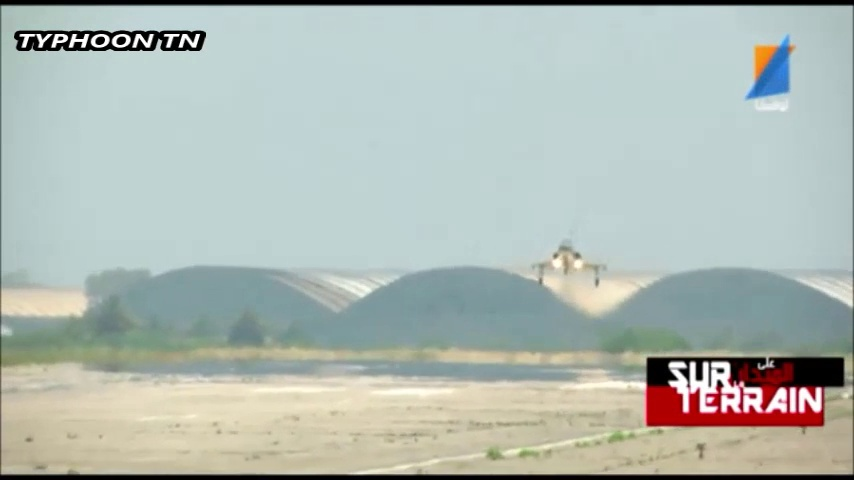Airplane: (530, 237, 607, 284)
